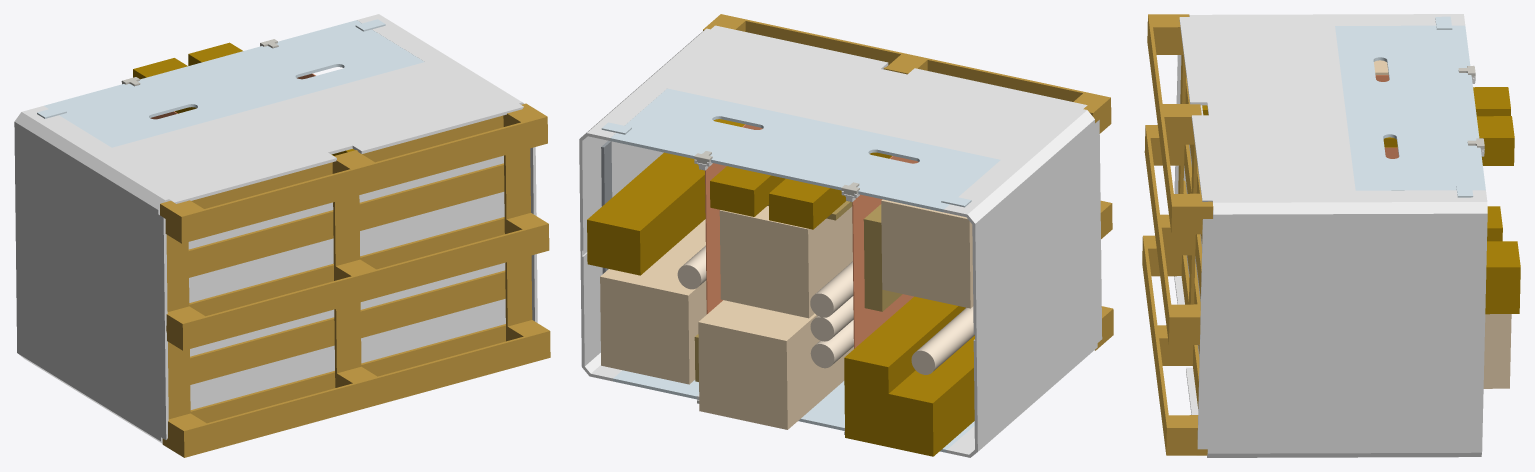
The picture shows the model from 3 angles, left to right: view 1: azimuth 30°, elevation 25°; view 2: azimuth 150°, elevation 25°; view 3: azimuth 270°, elevation 25°; orthographic projection. The views are drawn at different scales.
Parts seen in each view (by area): view 1: Part 3, Part 2, Part 1 (×3); view 2: Part 1 (×22), Part 3, Part 2, Part 4 (×2), Part 6, Part 5; view 3: Part 3, Part 1 (×7), Part 2.
Boxes of the visible parts, x1,y1,x2,y2 form: Part 3: [14, 14, 537, 443]; Part 2: [160, 103, 550, 457]; Part 1 (×3): [37, 19, 424, 155]; Part 1 (×22): [587, 88, 1000, 456]; Part 3: [579, 25, 1102, 457]; Part 2: [703, 14, 1113, 350]; Part 4 (×2): [705, 124, 918, 348]; Part 6: [613, 370, 974, 452]; Part 5: [601, 140, 612, 273]; Part 3: [1174, 14, 1487, 457]; Part 1 (×7): [1202, 16, 1520, 388]; Part 2: [1142, 14, 1213, 455].
Size of the model in its own units: 1.39 by 0.8458 by 1.1.
